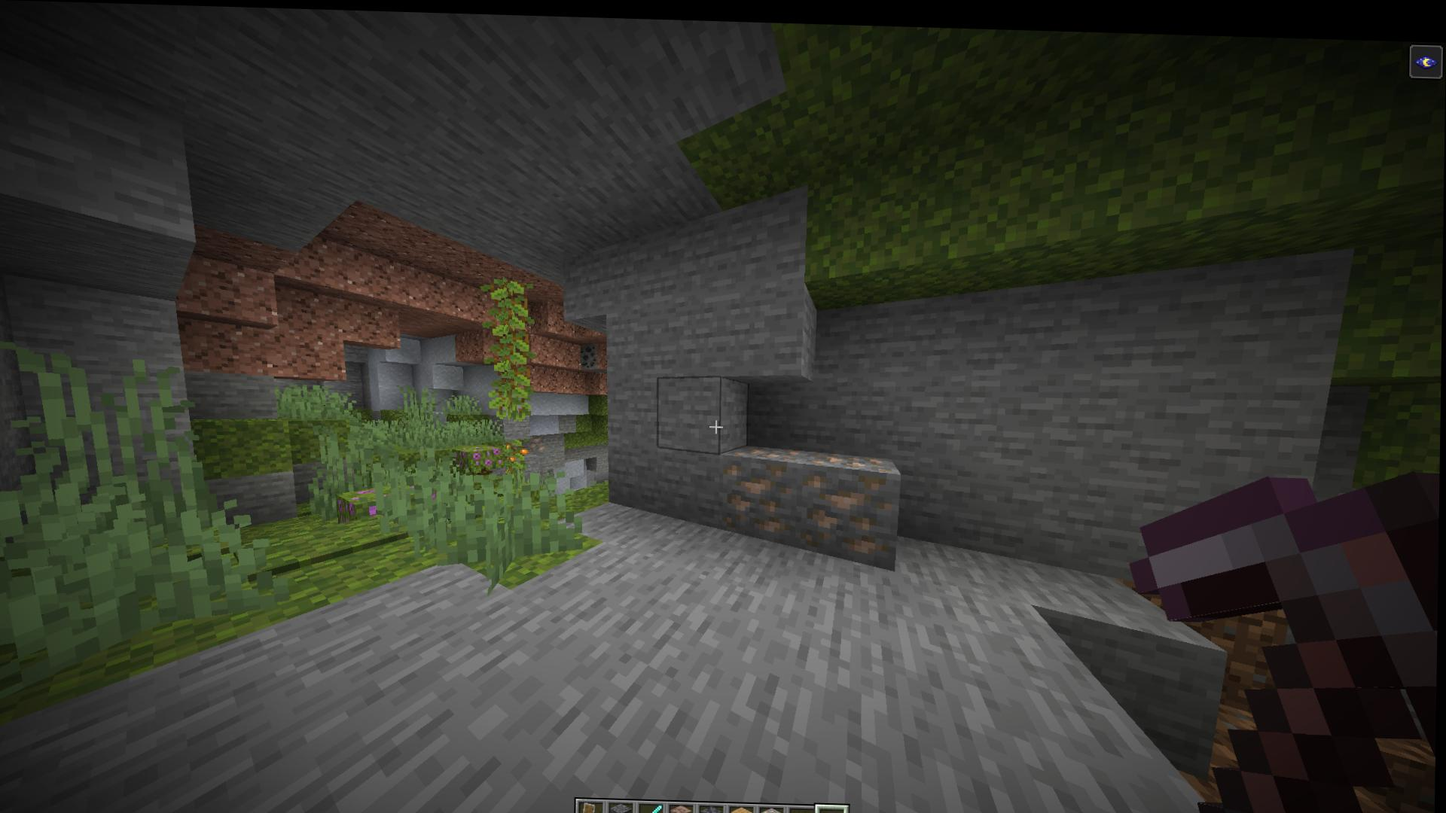iron ore: (797, 463, 896, 557), (719, 451, 796, 538), (807, 442, 896, 468), (733, 438, 805, 460), (530, 430, 549, 453)
